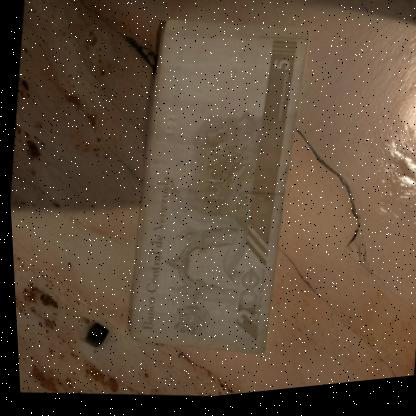five-back-vef: (111, 8, 321, 373)
